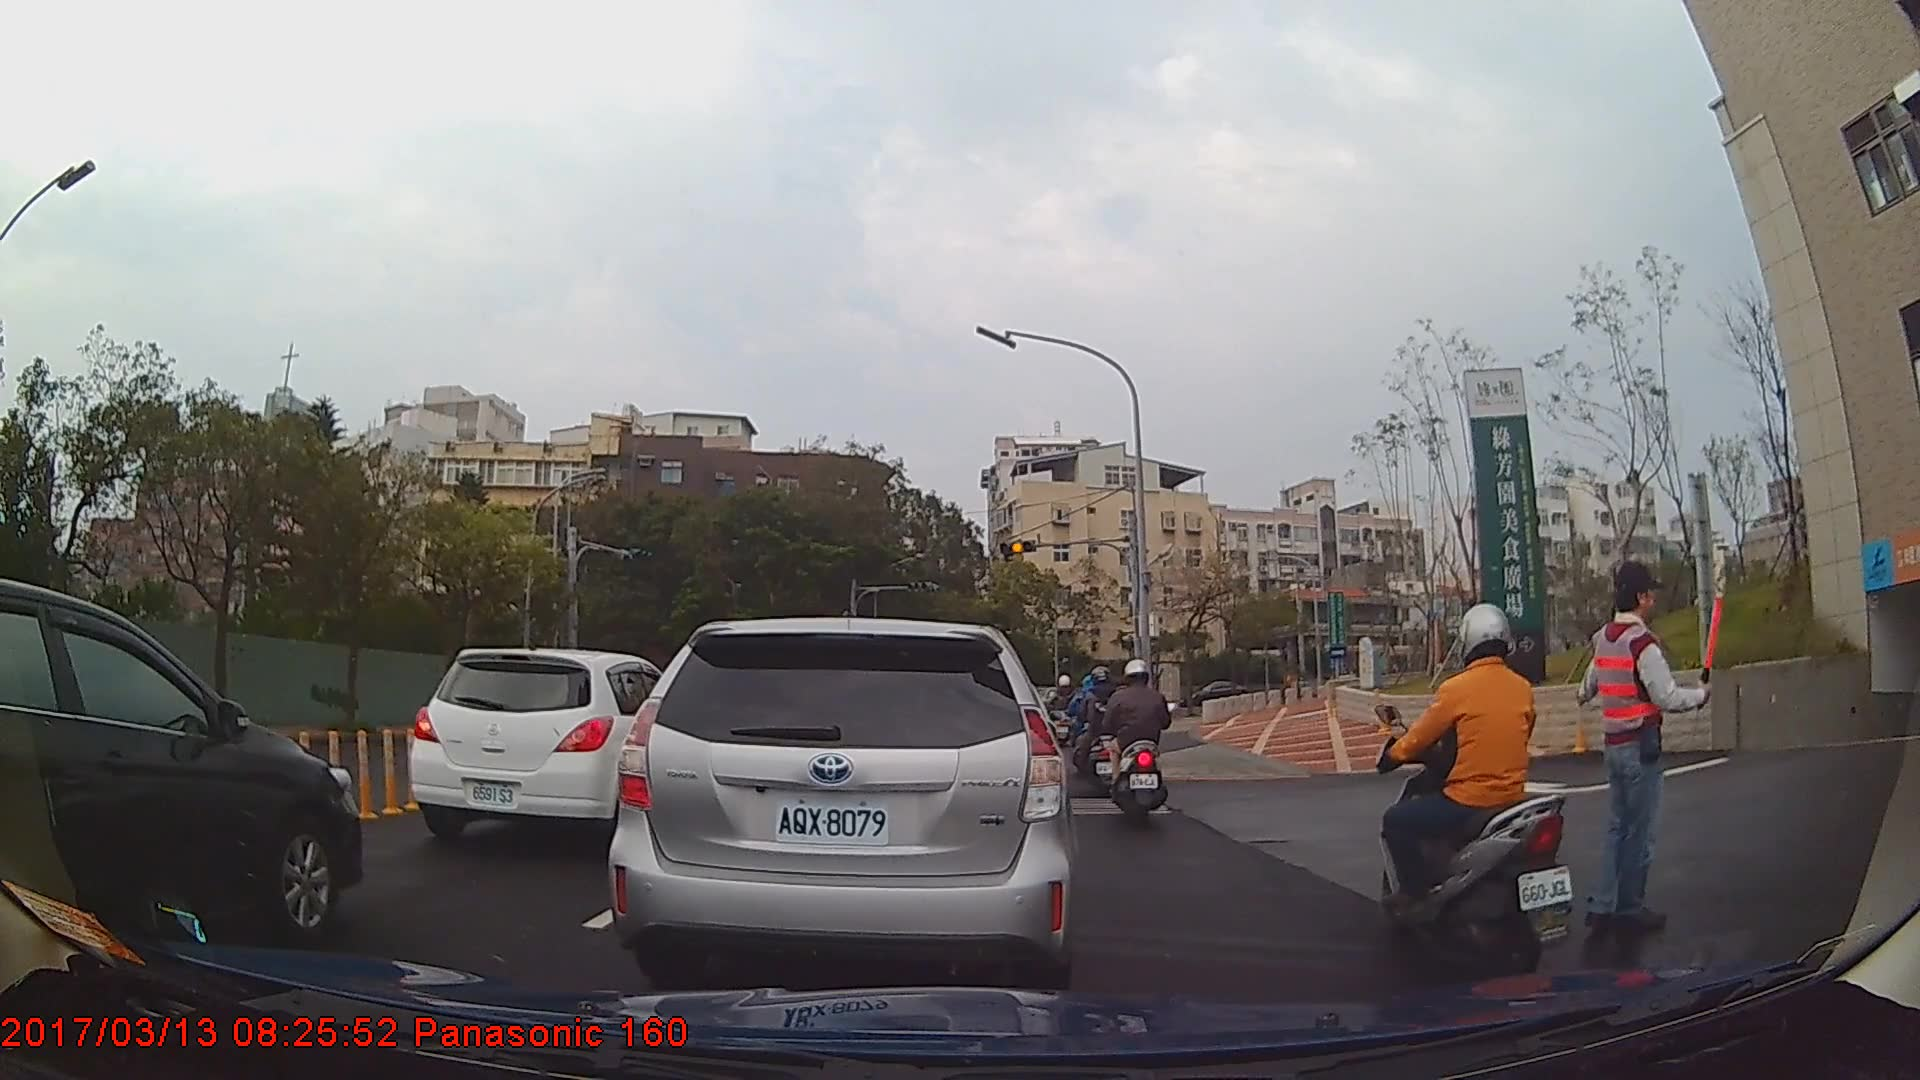pedestrian: (1570, 564, 1728, 934)
rider: (1375, 600, 1578, 977), (1107, 652, 1179, 837), (1076, 666, 1122, 791), (1046, 671, 1076, 752)
vehicle: (608, 618, 1072, 983), (0, 575, 364, 958), (408, 648, 713, 846), (1182, 677, 1250, 710)
